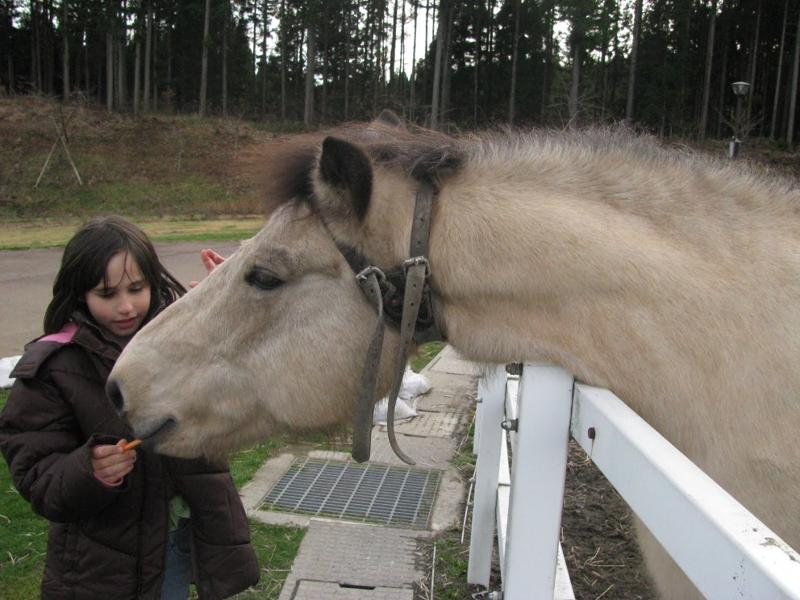person: (5, 223, 263, 598)
